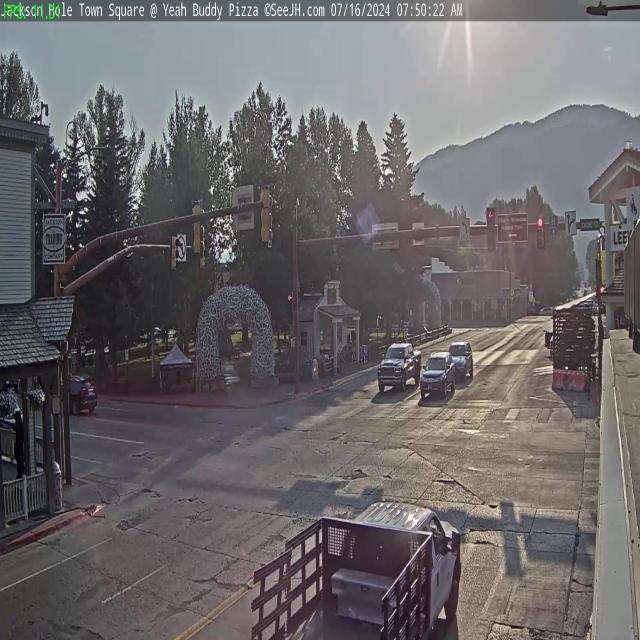pickup: (248, 495, 473, 640), (377, 341, 419, 392)
suv: (420, 349, 455, 398), (67, 375, 97, 417), (447, 337, 474, 383)
traffic light: (259, 181, 272, 244), (190, 200, 203, 256), (486, 207, 496, 252), (170, 231, 178, 274), (536, 215, 544, 248)
